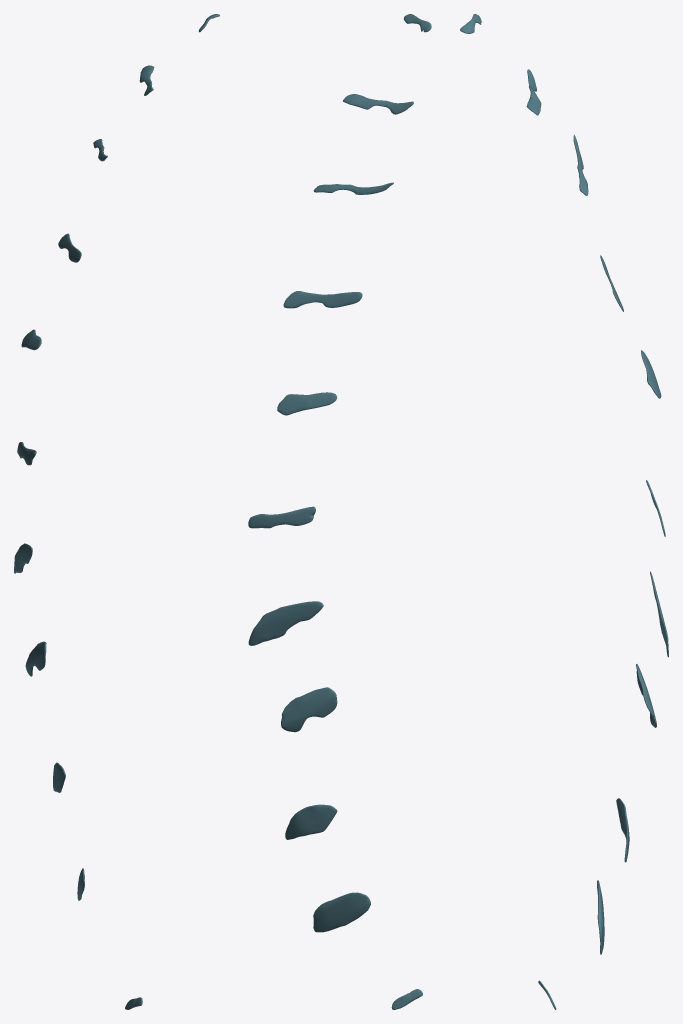
File: Levatores_costarum_thoracic_insertions_left.glb
3 renders of one model, left to right at view 1: azimuth 90°, elevation 25°; view 2: azimuth 150°, elevation 25°; view 3: azimuth 270°, elevation 25°, orthographic. The views are drawn at different scales.
Parts seen in each view (by area): view 1: Levatores_longi_costarum-Thoracic_insertions.l_Generated_Mes; view 2: Levatores_longi_costarum-Thoracic_insertions.l_Generated_Mes; view 3: Levatores_longi_costarum-Thoracic_insertions.l_Generated_Mes.
Boxes of the visible parts, box(x1,y1,x2,y2) form: Levatores_longi_costarum-Thoracic_insertions.l_Generated_Mes: box(14, 14, 219, 1009); Levatores_longi_costarum-Thoracic_insertions.l_Generated_Mes: box(248, 14, 431, 1009); Levatores_longi_costarum-Thoracic_insertions.l_Generated_Mes: box(460, 14, 668, 1009).
Size of the model in its own units: 0.0384 by 0.3066 by 0.0582.
